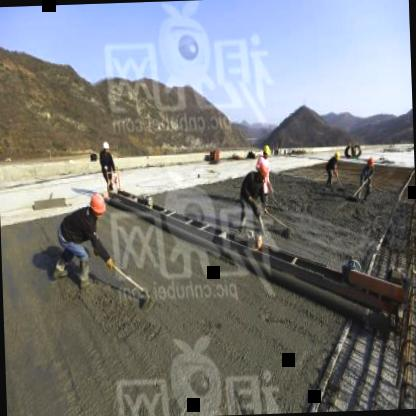helmet: (88, 189, 108, 224), (257, 162, 271, 182), (259, 143, 271, 162), (100, 138, 112, 156), (366, 154, 374, 172)
